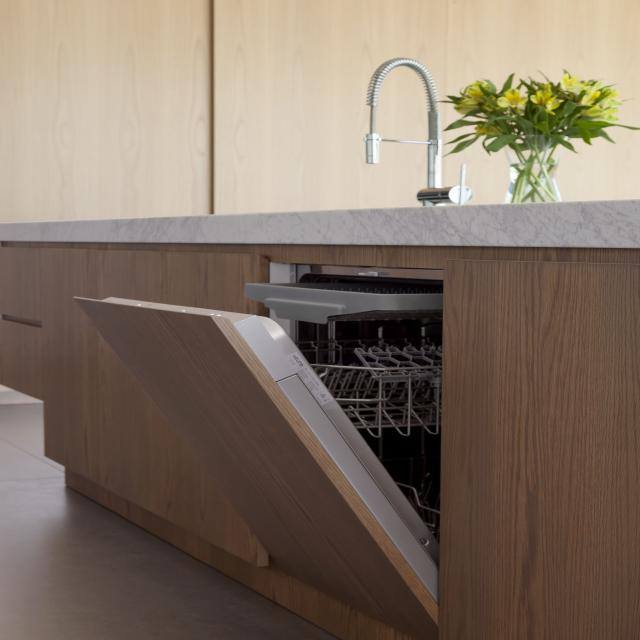dishwasher: (66, 245, 456, 640)
